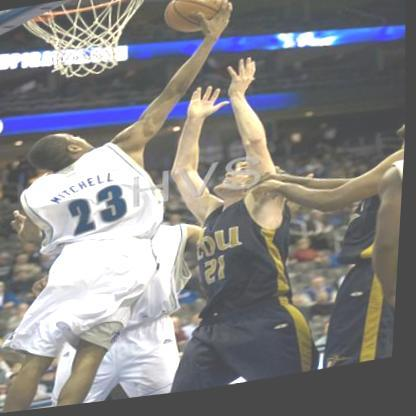basketball: (160, 0, 229, 40)
rim: (27, 0, 149, 24)
